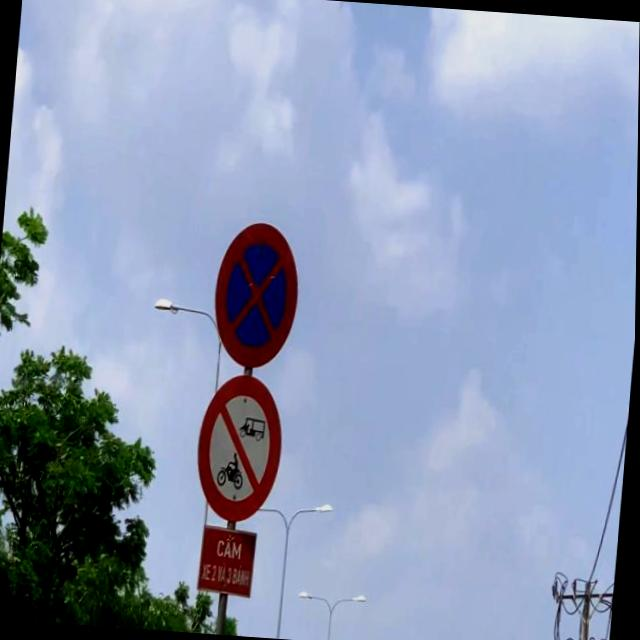Cam dung xe va do xe: (209, 220, 304, 370)
